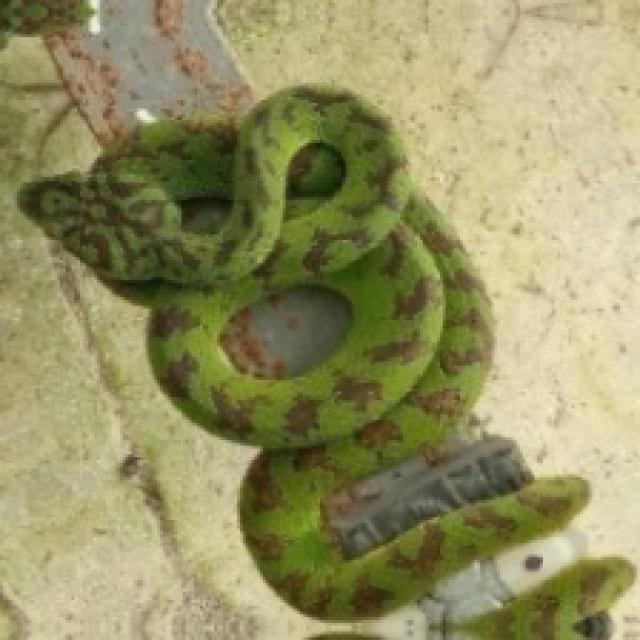philippine pitviper: (20, 86, 586, 617)
